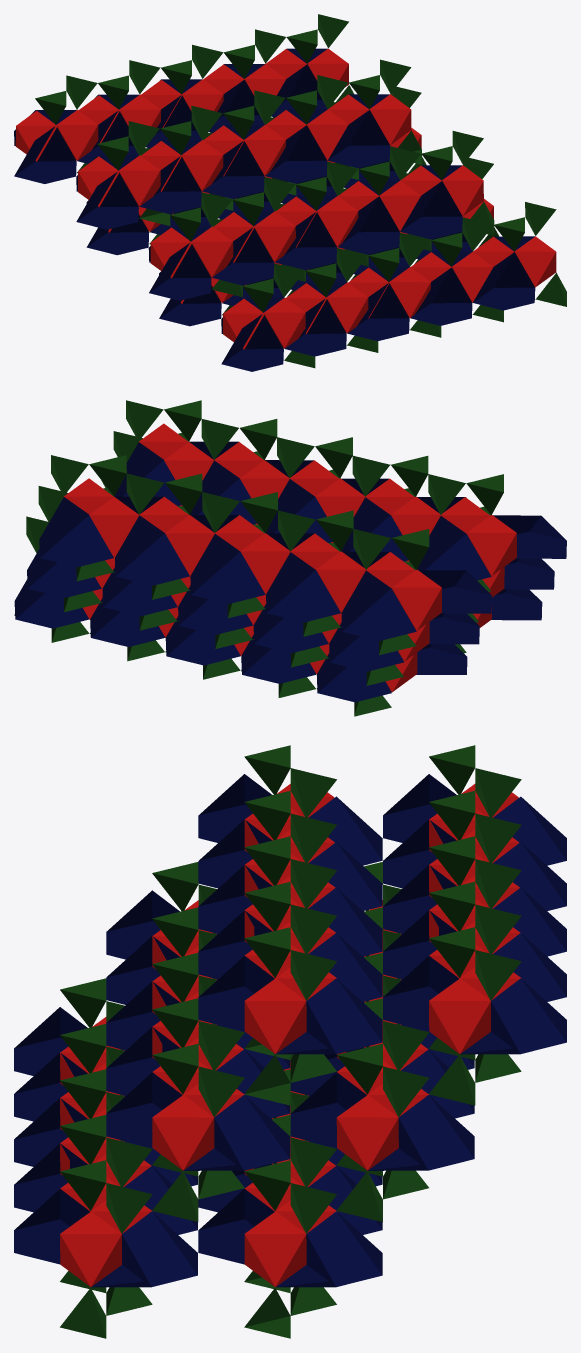
File: Clinopiroxenio.obj
The picture shows the model from 3 angles, top to bottom: view 1: azimuth 30°, elevation 25°; view 2: azimuth 150°, elevation 25°; view 3: azimuth 270°, elevation 25°; orthographic projection. The views are drawn at different scales.
Parts seen in each view (by area): view 1: Clinopiroxenio_full_Solid.032_Coordenacao_8, Clinopiroxenio_full_Solid.032_Coordenacao6, Clinopiroxenio_full_Solid.032_tetraedros; view 2: Clinopiroxenio_full_Solid.032_Coordenacao_8, Clinopiroxenio_full_Solid.032_Coordenacao6, Clinopiroxenio_full_Solid.032_tetraedros; view 3: Clinopiroxenio_full_Solid.032_Coordenacao_8, Clinopiroxenio_full_Solid.032_tetraedros, Clinopiroxenio_full_Solid.032_Coordenacao6.
Boxes of the visible parts, x1,y1,x2,y2 form: Clinopiroxenio_full_Solid.032_Coordenacao_8: (14,48,535,371); Clinopiroxenio_full_Solid.032_Coordenacao6: (15,48,556,349); Clinopiroxenio_full_Solid.032_tetraedros: (35,14,566,368); Clinopiroxenio_full_Solid.032_Coordenacao_8: (14,441,566,702); Clinopiroxenio_full_Solid.032_Coordenacao6: (63,423,516,692); Clinopiroxenio_full_Solid.032_tetraedros: (14,400,503,716); Clinopiroxenio_full_Solid.032_Coordenacao_8: (14,774,566,1287); Clinopiroxenio_full_Solid.032_tetraedros: (60,745,521,1338); Clinopiroxenio_full_Solid.032_Coordenacao6: (60,784,521,1287).
Size of the model in its own units: 2.31 by 1 by 1.68.
